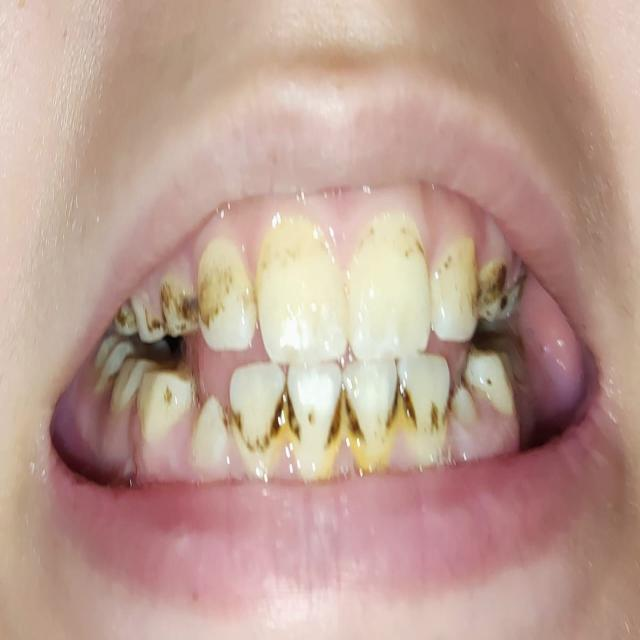tooth: (258, 235, 345, 354), (351, 233, 431, 350), (282, 366, 340, 470), (198, 252, 252, 348), (226, 373, 286, 458), (345, 352, 391, 449), (404, 358, 444, 445), (436, 238, 471, 336), (137, 375, 187, 434), (474, 355, 516, 408), (192, 402, 222, 467), (160, 282, 200, 330), (478, 259, 502, 318), (132, 305, 158, 336)
